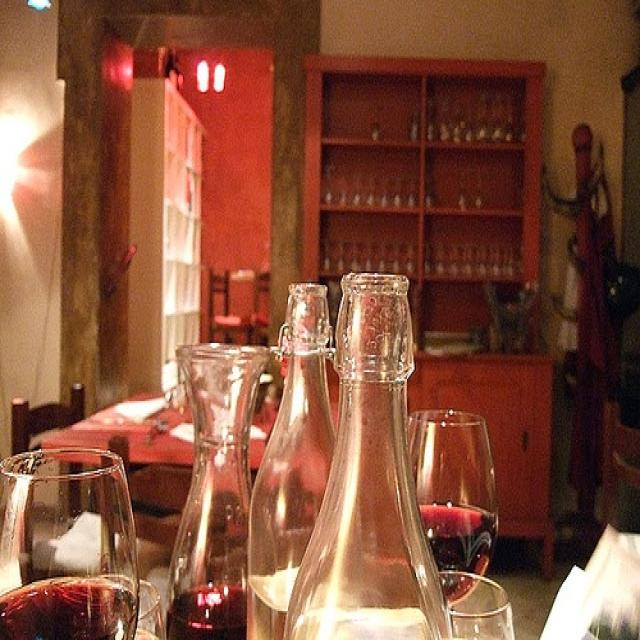bottle: (283, 272, 450, 638), (247, 284, 337, 638)
chair: (97, 432, 196, 577), (13, 375, 88, 454), (206, 263, 246, 345)
diningtable: (40, 384, 334, 468)
